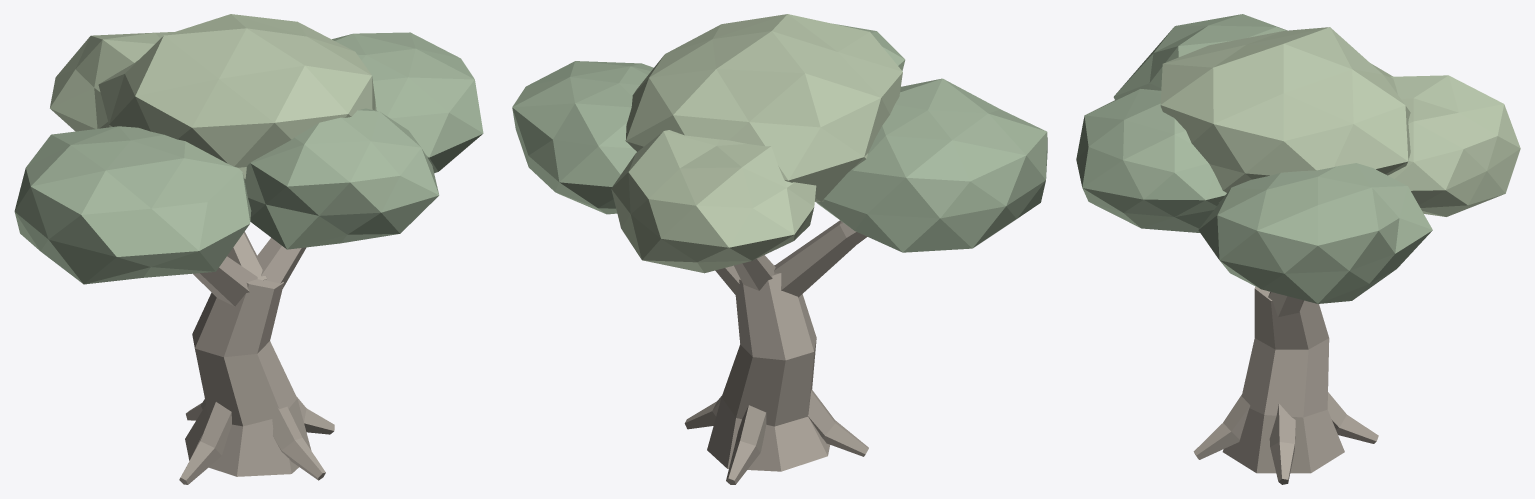
The model's file is Tree_Olive.fbx.
3 views of the same model, side by side, from view 1: azimuth 30°, elevation 25°; view 2: azimuth 150°, elevation 25°; view 3: azimuth 270°, elevation 25° (orthographic). The views are drawn at different scales.
Parts seen in each view (by area): view 1: Tree_Olive; view 2: Tree_Olive; view 3: Tree_Olive.
Boxes of the visible parts, x1,y1,x2,y2 form: Tree_Olive: [14, 14, 483, 484]; Tree_Olive: [512, 14, 1047, 484]; Tree_Olive: [1076, 14, 1520, 484].
Size of the model in its own units: 3.77 by 3.28 by 3.26.
